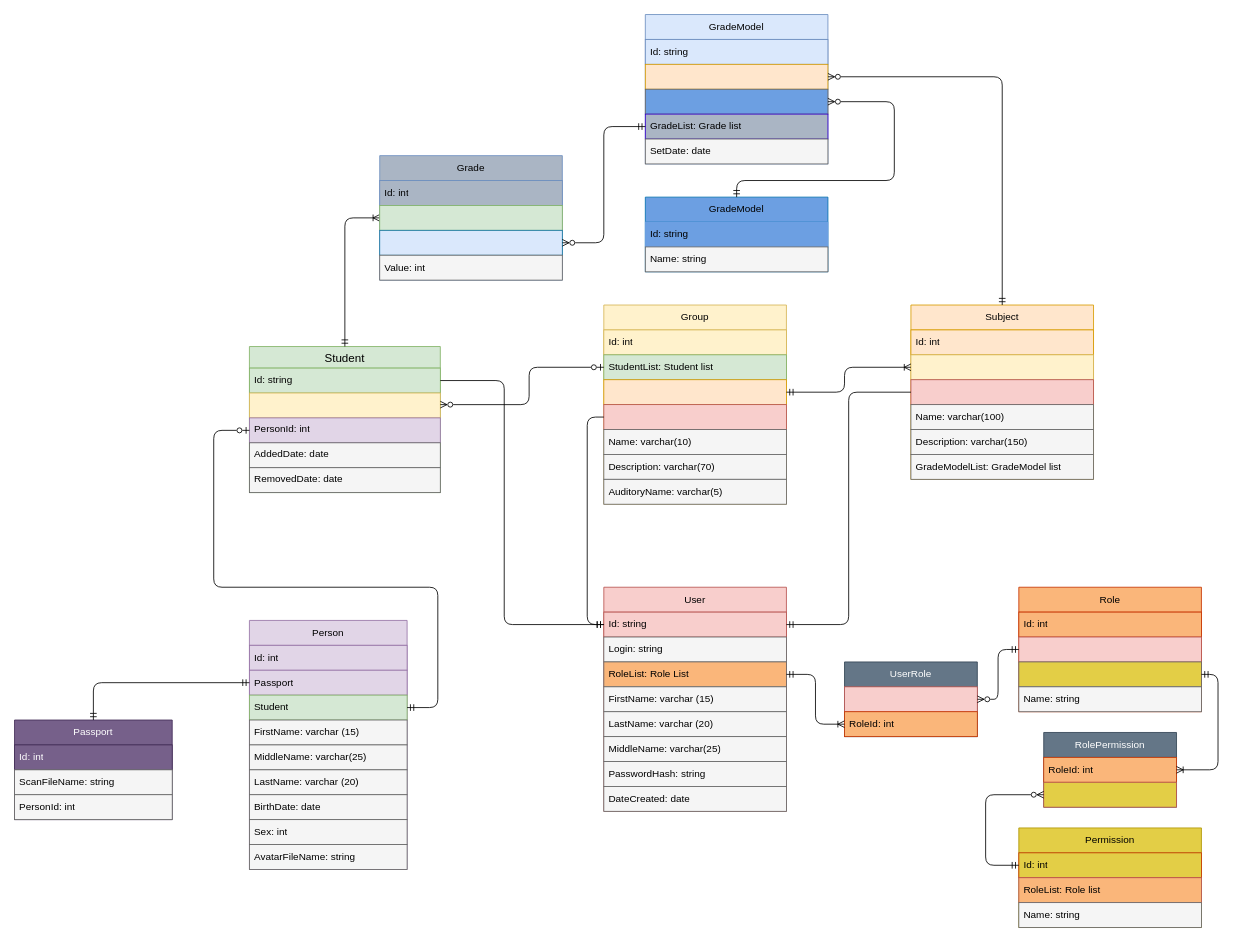
This 1240x942 diagram has some shape labels left out. Here are the shapes that lost their labels. From the top down, the centre of each, then its label:
At (736,76): "SubjectId: int".
At (736,101): "GradeType".
At (470,217): "StudentId: string".
At (470,242): "GradeModelId: string".
At (1002,367): "GroupId: int".
At (344,405): "GroupId: int?".
At (694,392): "SubjectList: Subject list".
At (1002,392): "TeacherId: string".
At (694,417): "CuratorId: string".
At (1109,649): "UserList: User list".
At (1109,674): "PermissionList: Permission list".
At (910,699): "UserId: string".
At (1110,794): "PermissionId: int".
